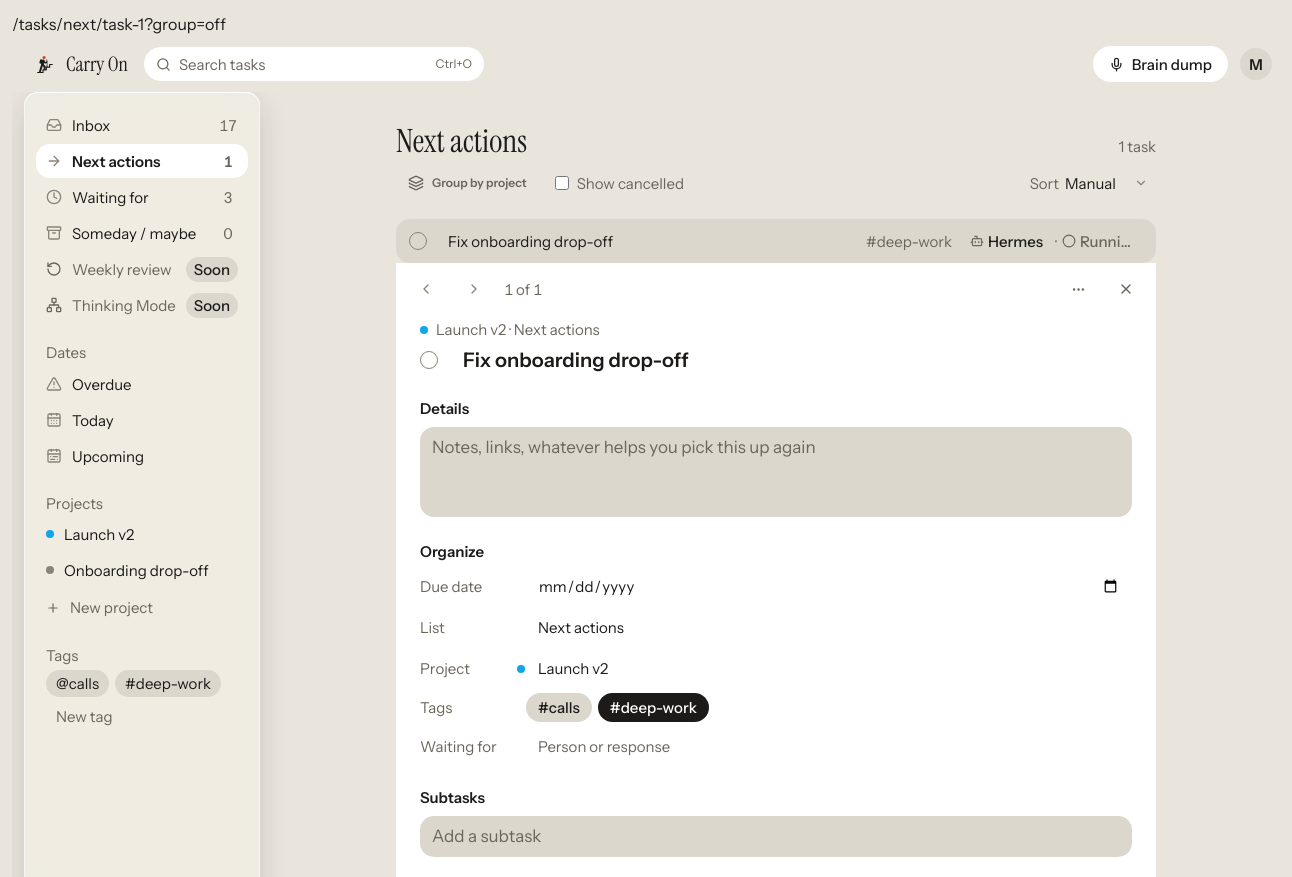
TaskListPage projections › keeps a cached agent status readable when refresh fails and retries without reopening an already selected row
The image size is (1292, 877).
Click the button "Hermes · Running" at point(1052, 241), box [960,227,1144,255]
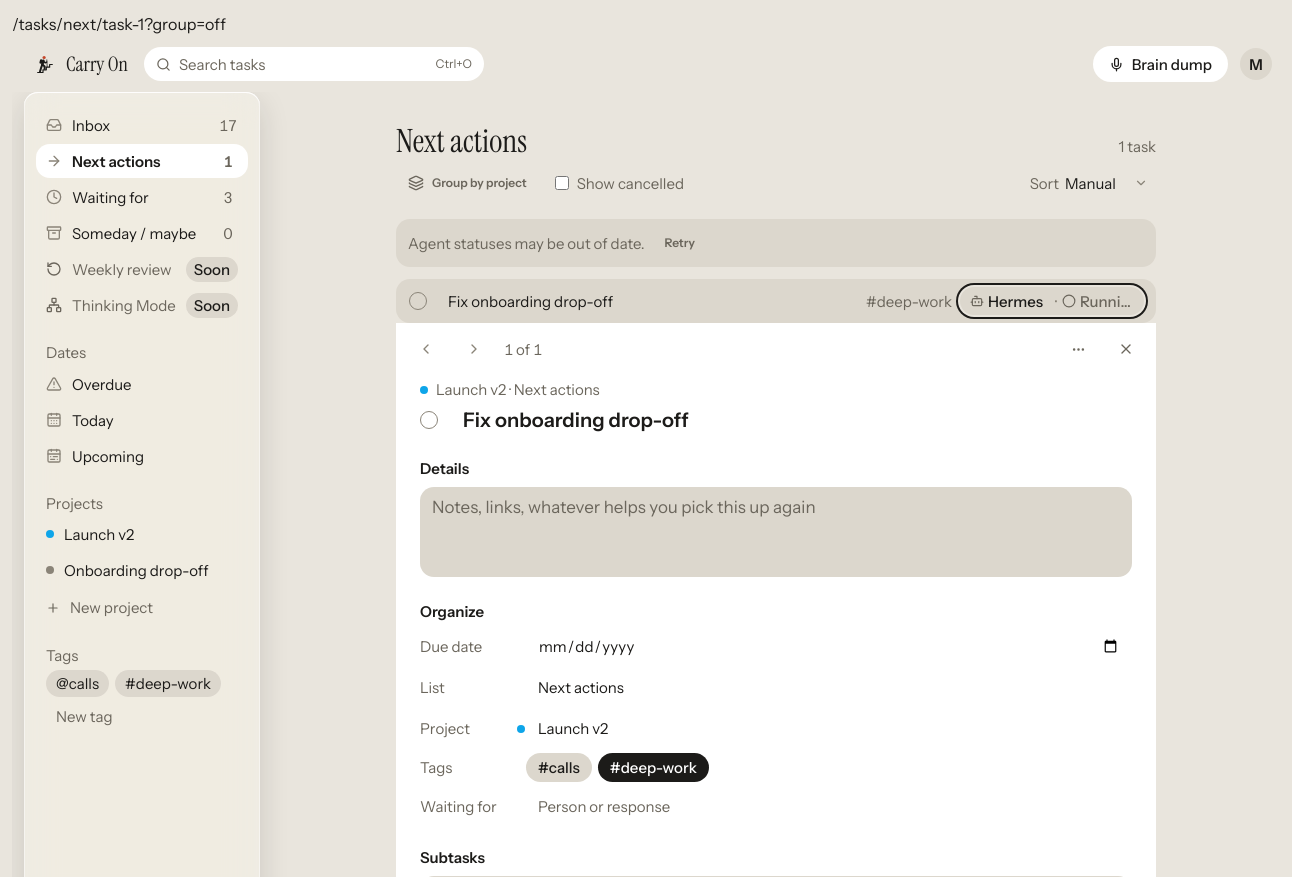
Expected: the text with test id "location" reads "/tasks/next/task-1?group=off", [12,14,226,34]
Expected: the text "Agent statuses may be out of date." is shown, [408,233,644,254]
Click the button "Retry" at point(680, 243), box [652,227,707,259]
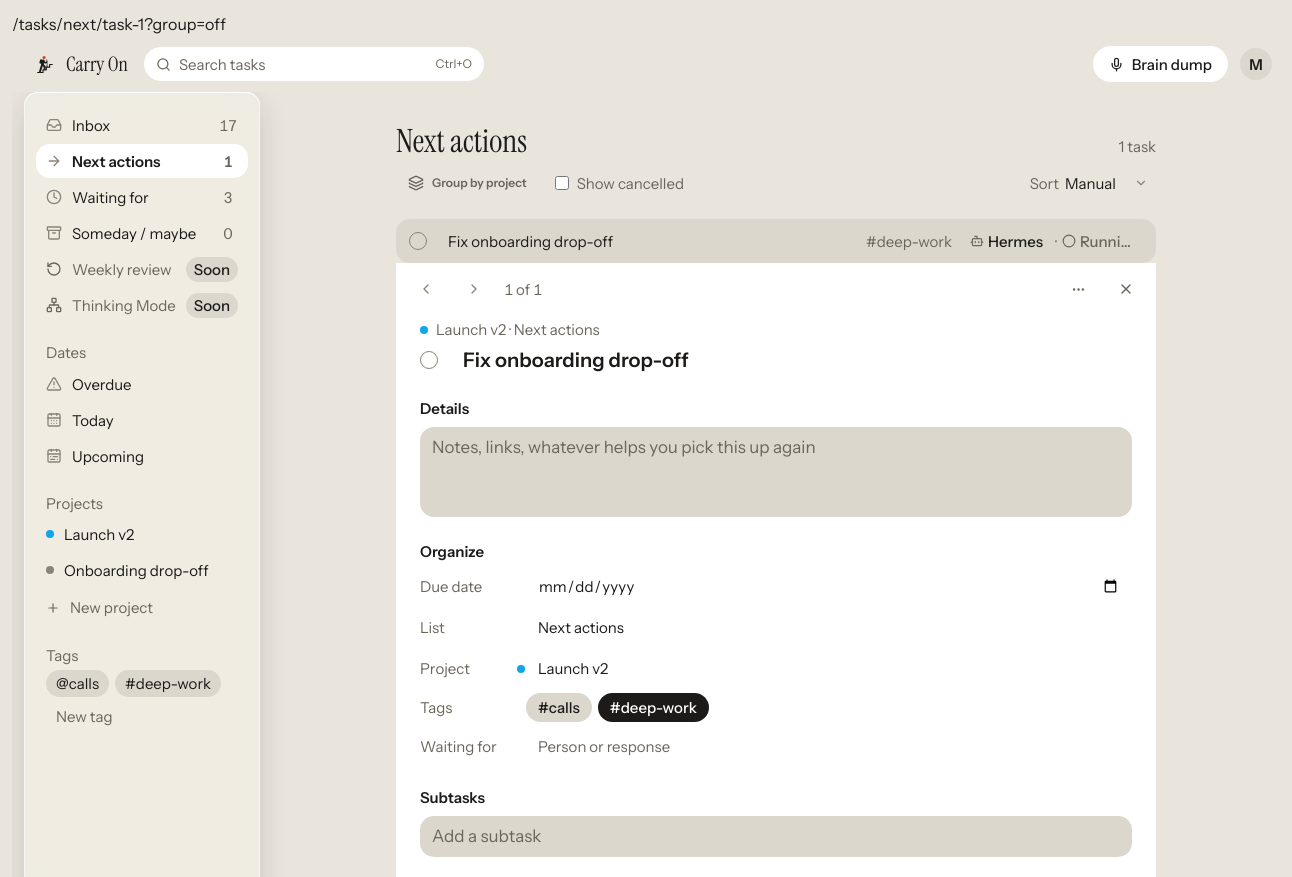
Expected: the button "Hermes · Running" is shown, [960,227,1144,255]
Expected: the text "Agent statuses may be out of date." is gone
